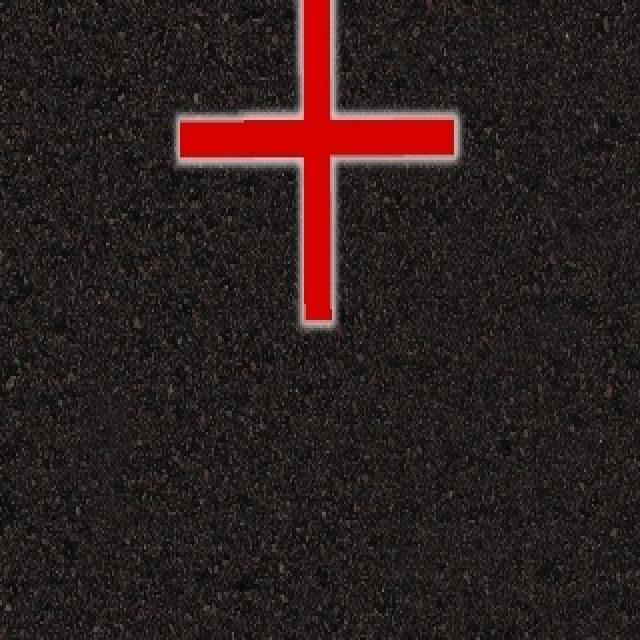x_marker: (179, 0, 455, 323)
